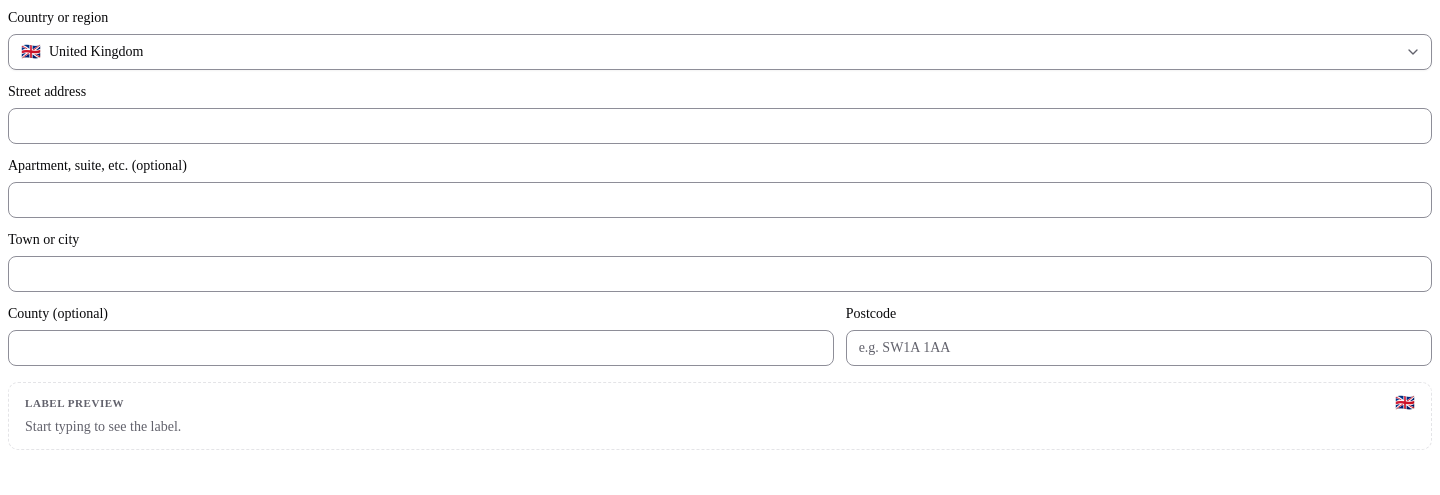
AddressInput › relabels fields per country and formats the postcode as you type
The width and height of the screenshot is (1440, 495).
Type "sw1a1aa" into the field labelled "Postcode" at (1139, 348), box [846,330,1432,366]
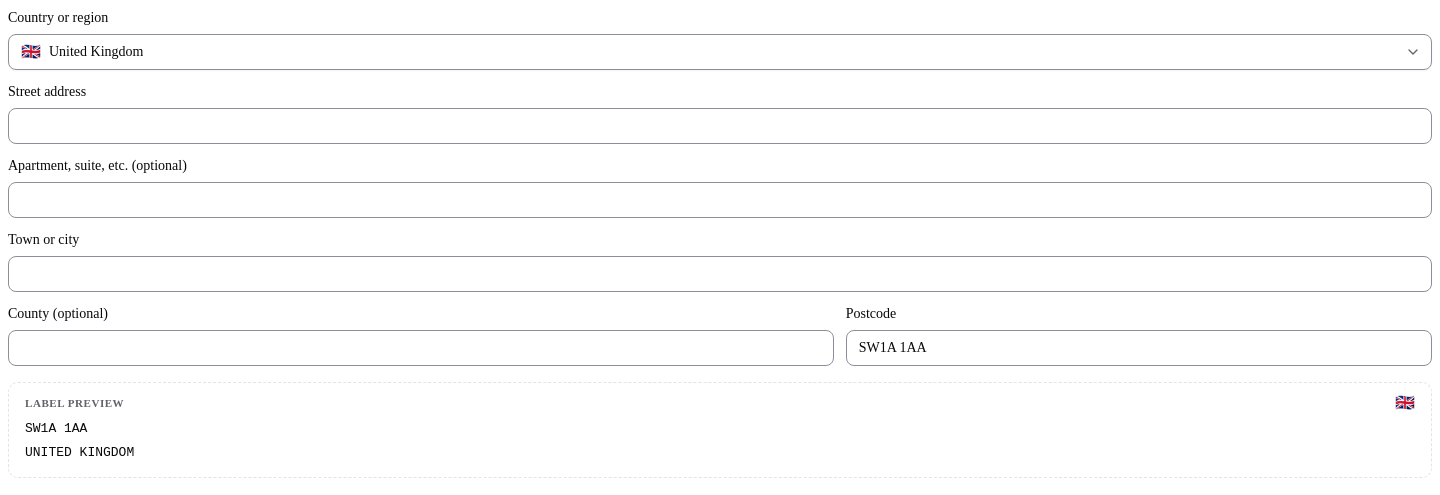
Now the field labelled "Postcode" holds "SW1A 1AA", box [846,330,1432,366]
